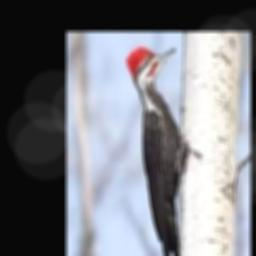Woodpecker: (126, 47, 186, 256)
